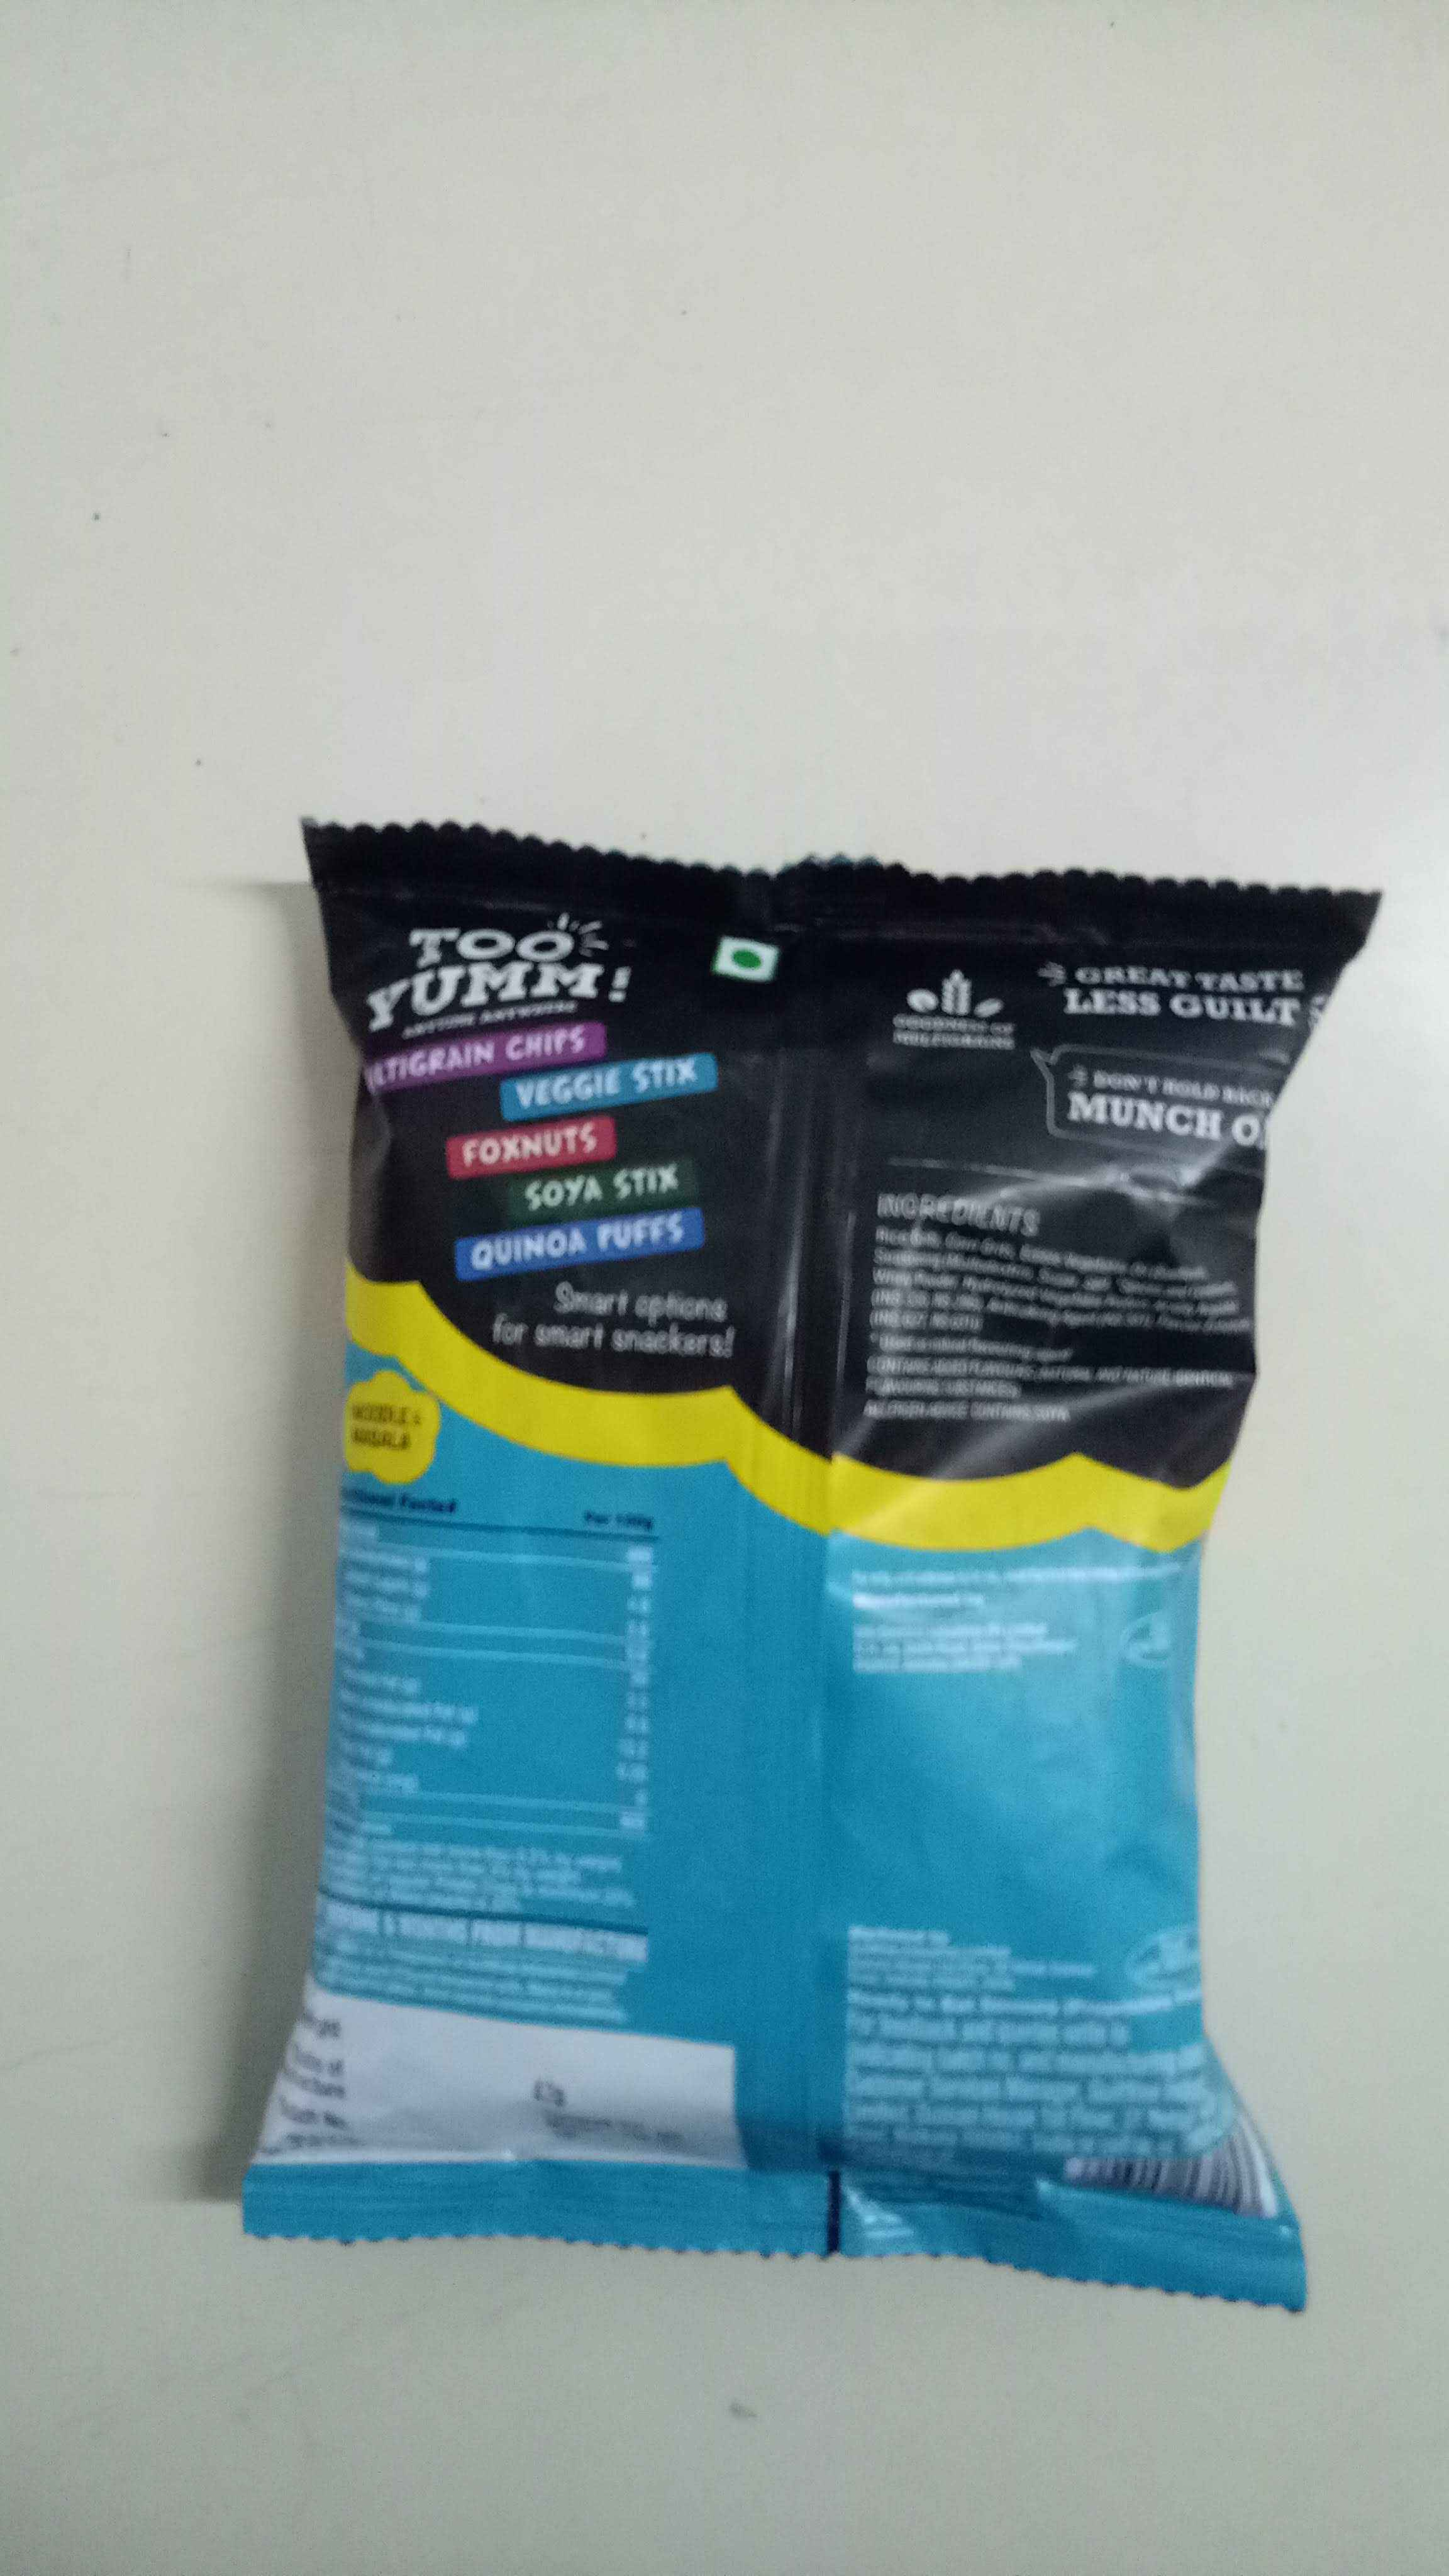tooyumm: (370, 893, 665, 1077)
